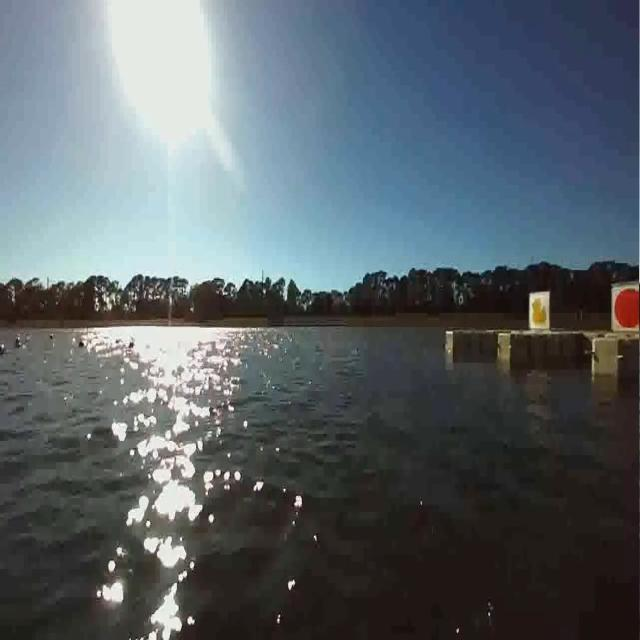red-dot: (611, 286, 640, 334)
yellow-duck: (528, 292, 552, 328)
